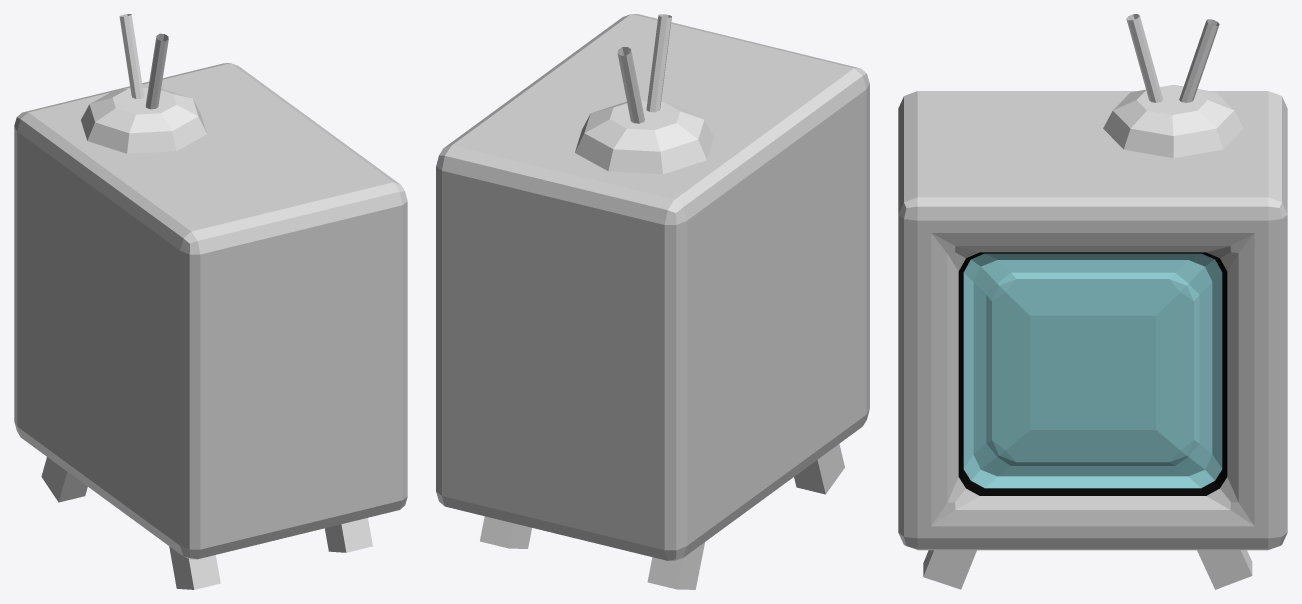
The picture shows the model from 3 angles, left to right: view 1: azimuth 30°, elevation 25°; view 2: azimuth 150°, elevation 25°; view 3: azimuth 270°, elevation 25°; orthographic projection. The views are drawn at different scales.
Parts seen in each view (by area): view 1: TvBody, AntennaBase, Spike, Leg1, Leg, Leg3; view 2: TvBody, AntennaBase, Spike, Leg3, Leg1, Leg2; view 3: TvBody, AntennaBase, Spike, Leg2, Leg.
Boxes of the visible parts, left/top/right/bottom form: TvBody: left=14, top=63, right=407, bottom=559; AntennaBase: left=81, top=88, right=206, bottom=153; Spike: left=119, top=14, right=168, bottom=109; Leg1: left=169, top=546, right=220, bottom=589; Leg: left=325, top=518, right=372, bottom=552; Leg3: left=41, top=457, right=87, bottom=502; TvBody: left=436, top=14, right=869, bottom=560; AntennaBase: left=575, top=100, right=713, bottom=174; Spike: left=617, top=14, right=671, bottom=123; Leg3: left=647, top=542, right=704, bottom=589; Leg1: left=794, top=444, right=844, bottom=494; Leg2: left=480, top=516, right=531, bottom=548; TvBody: left=898, top=91, right=1287, bottom=550; AntennaBase: left=1103, top=85, right=1243, bottom=158; Spike: left=1126, top=14, right=1219, bottom=102; Leg2: left=1197, top=550, right=1252, bottom=589; Leg: left=923, top=550, right=976, bottom=589.
Size of the model in its own units: 143 by 292 by 200.
